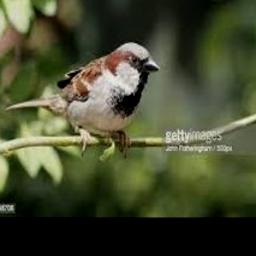Sparrow: (5, 42, 159, 157)
